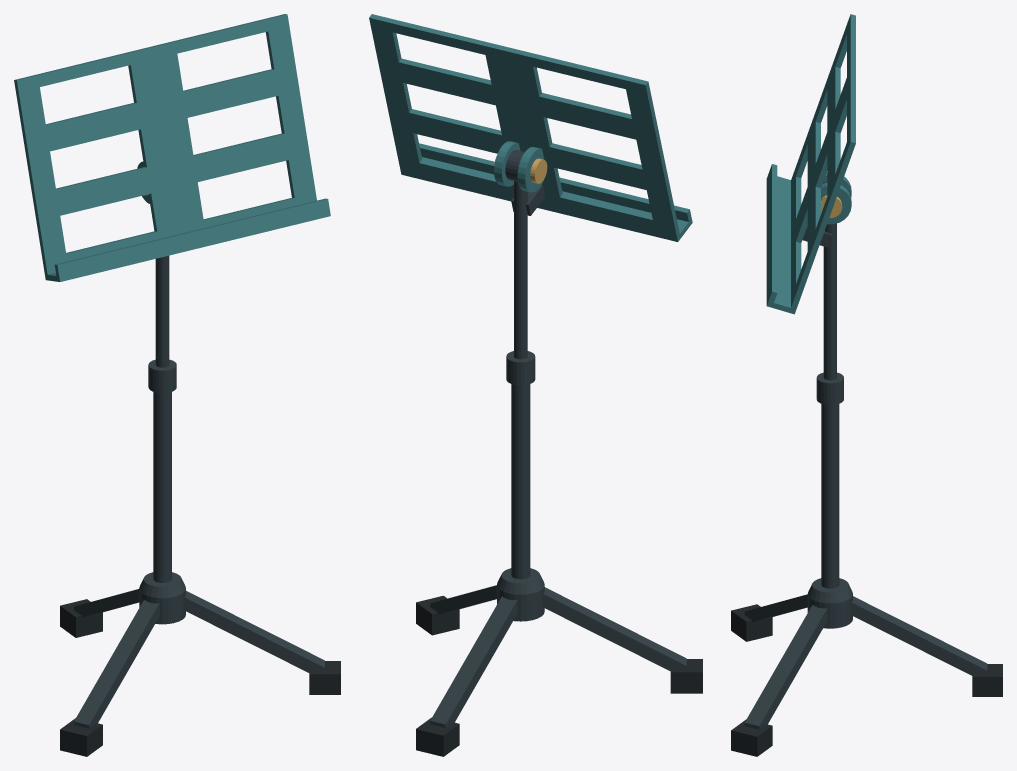
3 renders of one model, left to right at view 1: azimuth 30°, elevation 25°; view 2: azimuth 150°, elevation 25°; view 3: azimuth 270°, elevation 25°, orthographic. The views are drawn at different scales.
Visible parts, largest first — view 1: Perforated_Board_IntegralShelfLip, Upright_WithFixedShoulder, Splayed_Leg_FrontLeft, Splayed_Leg_FrontRight, Tripod_Hub, Foot_FrontLeft, Foot_Rear, Foot_FrontRight, Splayed_Leg_Rear; view 2: Perforated_Board_IntegralShelfLip, Upright_WithFixedShoulder, Splayed_Leg_Rear, Splayed_Leg_FrontLeft, Tripod_Hub, Foot_Rear, Foot_FrontRight, Foot_FrontLeft, Splayed_Leg_FrontRight, Board_Ear_Left, Board_Ear_Right; view 3: Perforated_Board_IntegralShelfLip, Upright_WithFixedShoulder, Splayed_Leg_FrontRight, Splayed_Leg_Rear, Tripod_Hub, Foot_FrontRight, Foot_FrontLeft, Foot_Rear, Splayed_Leg_FrontLeft, Board_Ear_Right.
Part boxes in pixels (x1,y1,x2,y2): Perforated_Board_IntegralShelfLip: (14,14,330,281); Upright_WithFixedShoulder: (148,255,176,582); Splayed_Leg_FrontLeft: (74,599,159,728); Splayed_Leg_FrontRight: (184,591,324,672); Tripod_Hub: (139,572,185,624); Foot_FrontLeft: (60,718,102,756); Foot_Rear: (60,599,102,637); Foot_FrontRight: (309,661,340,694); Splayed_Leg_Rear: (74,589,139,617); Perforated_Board_IntegralShelfLip: (369,14,692,241); Upright_WithFixedShoulder: (506,181,535,579); Splayed_Leg_Rear: (430,596,517,728); Splayed_Leg_FrontLeft: (542,587,686,671); Tripod_Hub: (497,568,544,621); Foot_Rear: (416,717,459,756); Foot_FrontRight: (416,595,459,635); Foot_FrontLeft: (670,659,702,693); Splayed_Leg_FrontRight: (430,585,496,614); Board_Ear_Left: (517,147,544,192); Board_Ear_Right: (494,141,520,186); Perforated_Board_IntegralShelfLip: (766,14,855,314); Upright_WithFixedShoulder: (816,223,843,588); Splayed_Leg_FrontRight: (744,605,827,729); Splayed_Leg_Rear: (851,596,987,675); Tripod_Hub: (807,578,852,628); Foot_FrontRight: (731,719,772,756); Foot_FrontLeft: (731,604,772,641); Foot_Rear: (972,664,1002,696); Splayed_Leg_FrontLeft: (744,594,807,622); Board_Ear_Right: (821,182,851,224).
Size of the model in its own units: 0.6642 by 1.43 by 0.5752.
